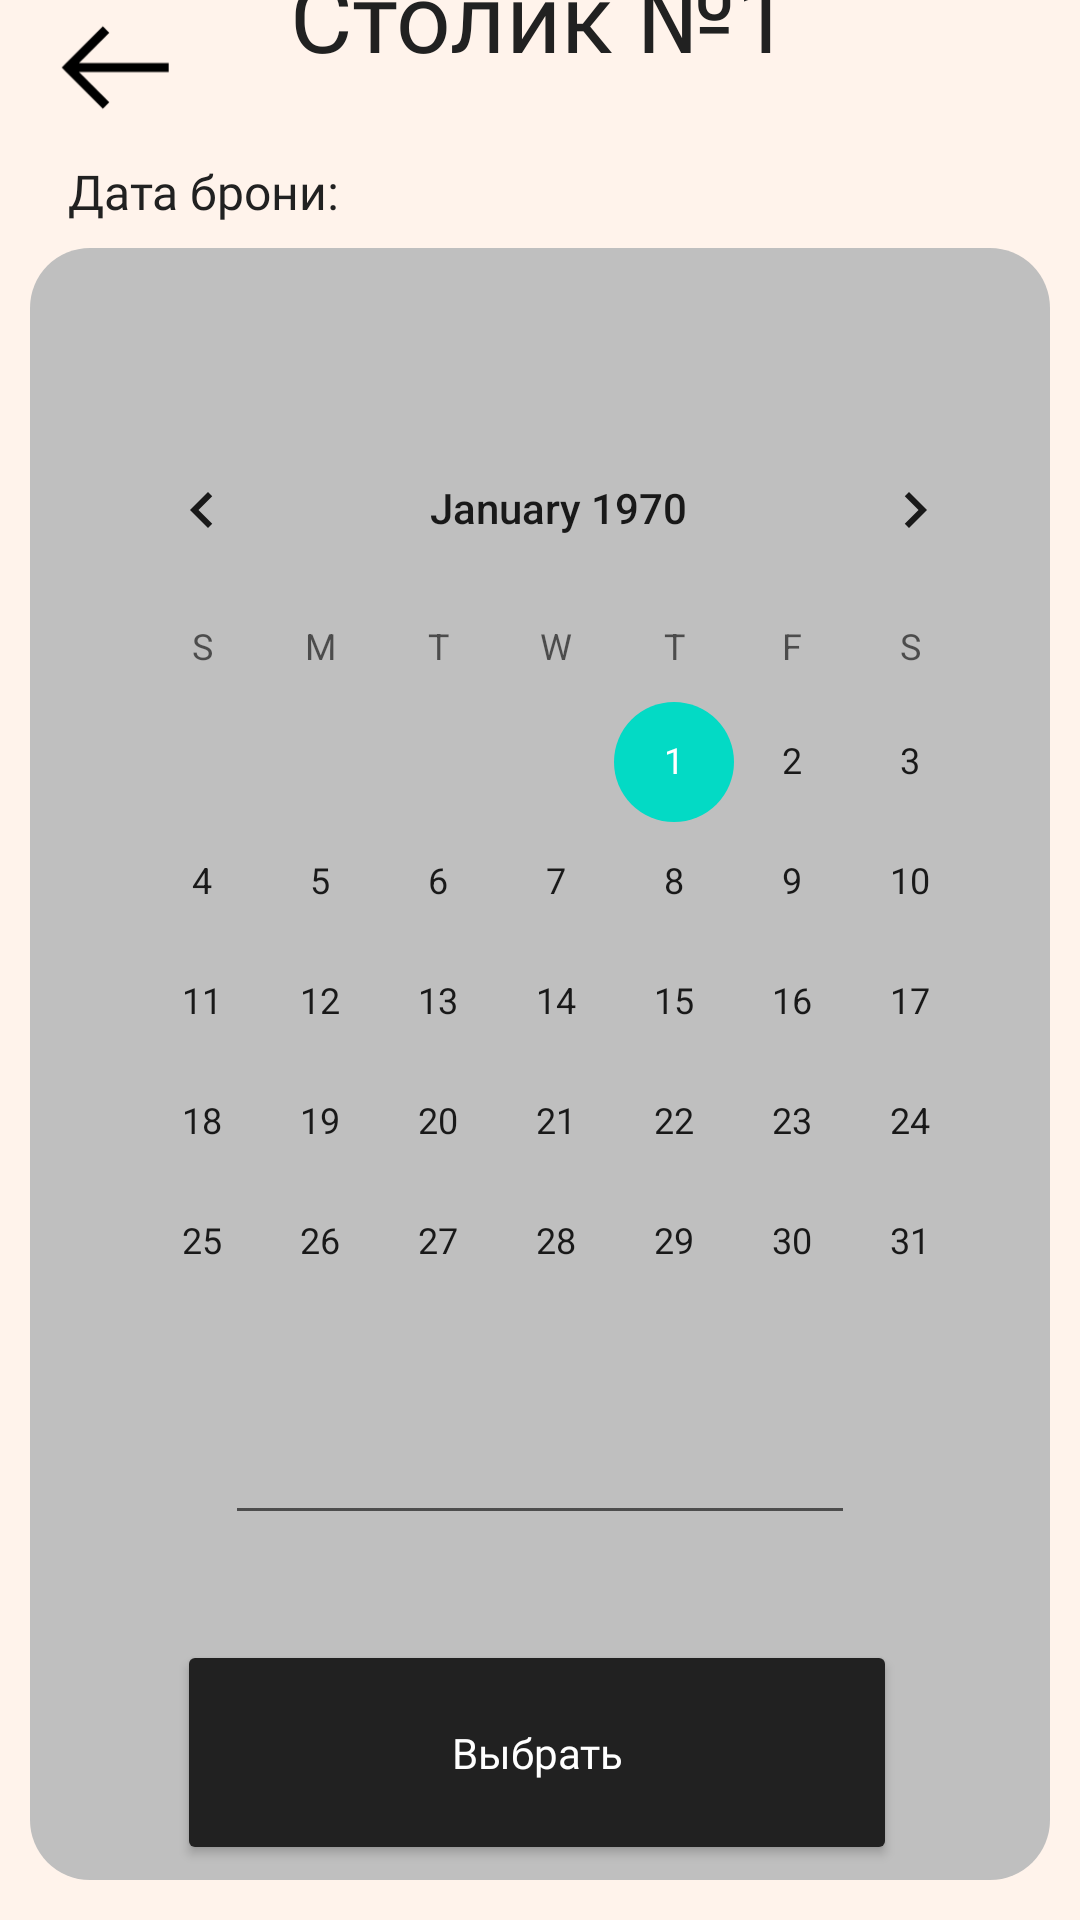

Icons on this 1080px×1920px Android screen, each with the point to tap as (x=x, y=y):
back: (x=115, y=67)
